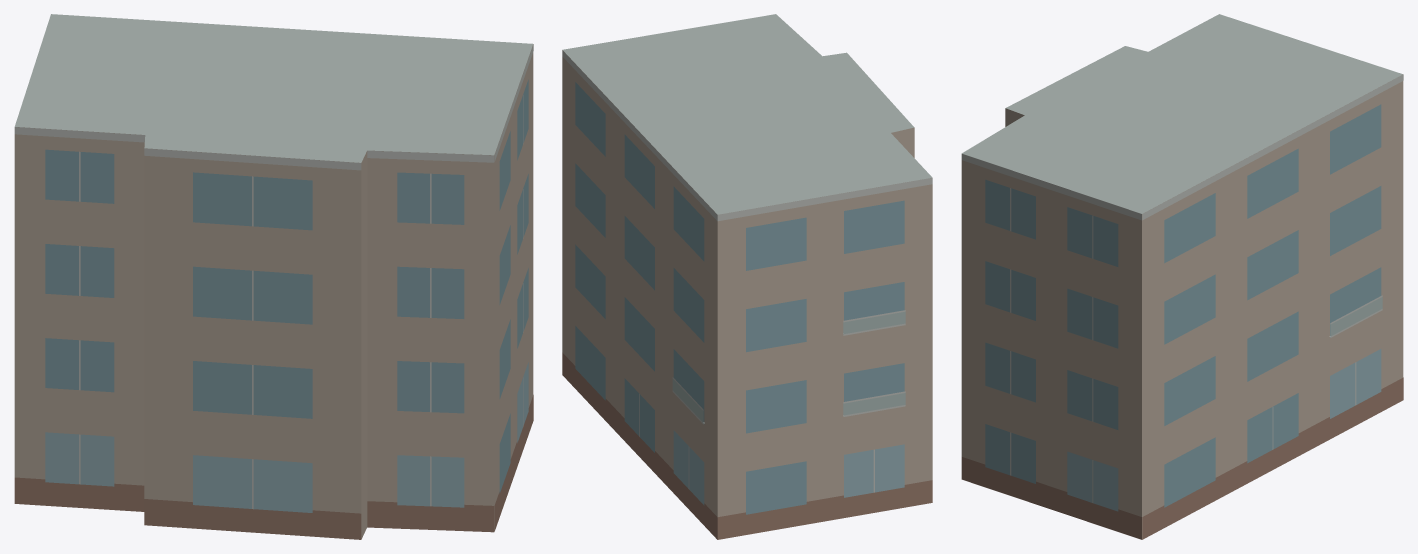
File: survey-upis-32641510.glb
3 renders of one model, left to right at view 1: azimuth 30°, elevation 25°; view 2: azimuth 150°, elevation 25°; view 3: azimuth 270°, elevation 25°, orthographic. The views are drawn at different scales.
Parts seen in each view (by area): view 1: survey-upis-32641510.tmp; view 2: survey-upis-32641510.tmp; view 3: survey-upis-32641510.tmp.
Part boxes in pixels (x1,y1,x2,y2): survey-upis-32641510.tmp: [14, 14, 533, 539]; survey-upis-32641510.tmp: [562, 14, 932, 539]; survey-upis-32641510.tmp: [961, 14, 1403, 539].
Size of the model in its own units: 16.07 by 12.2 by 15.
